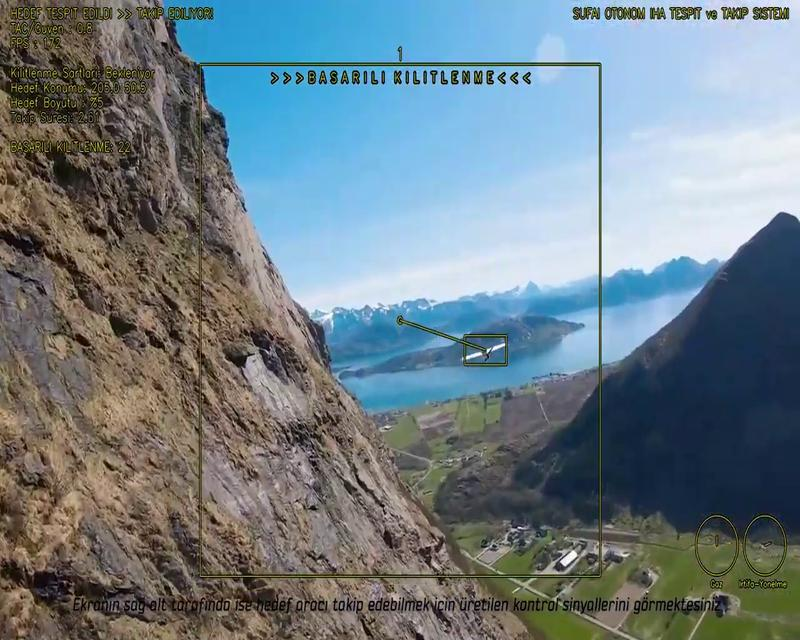UAV: (461, 342, 507, 362)
